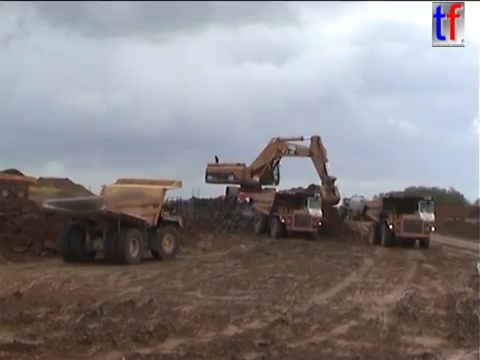excavator: (203, 133, 341, 213), (210, 189, 285, 217)
truck: (42, 176, 184, 265), (363, 194, 436, 248), (248, 190, 324, 239), (1, 170, 39, 202), (337, 192, 370, 221)
